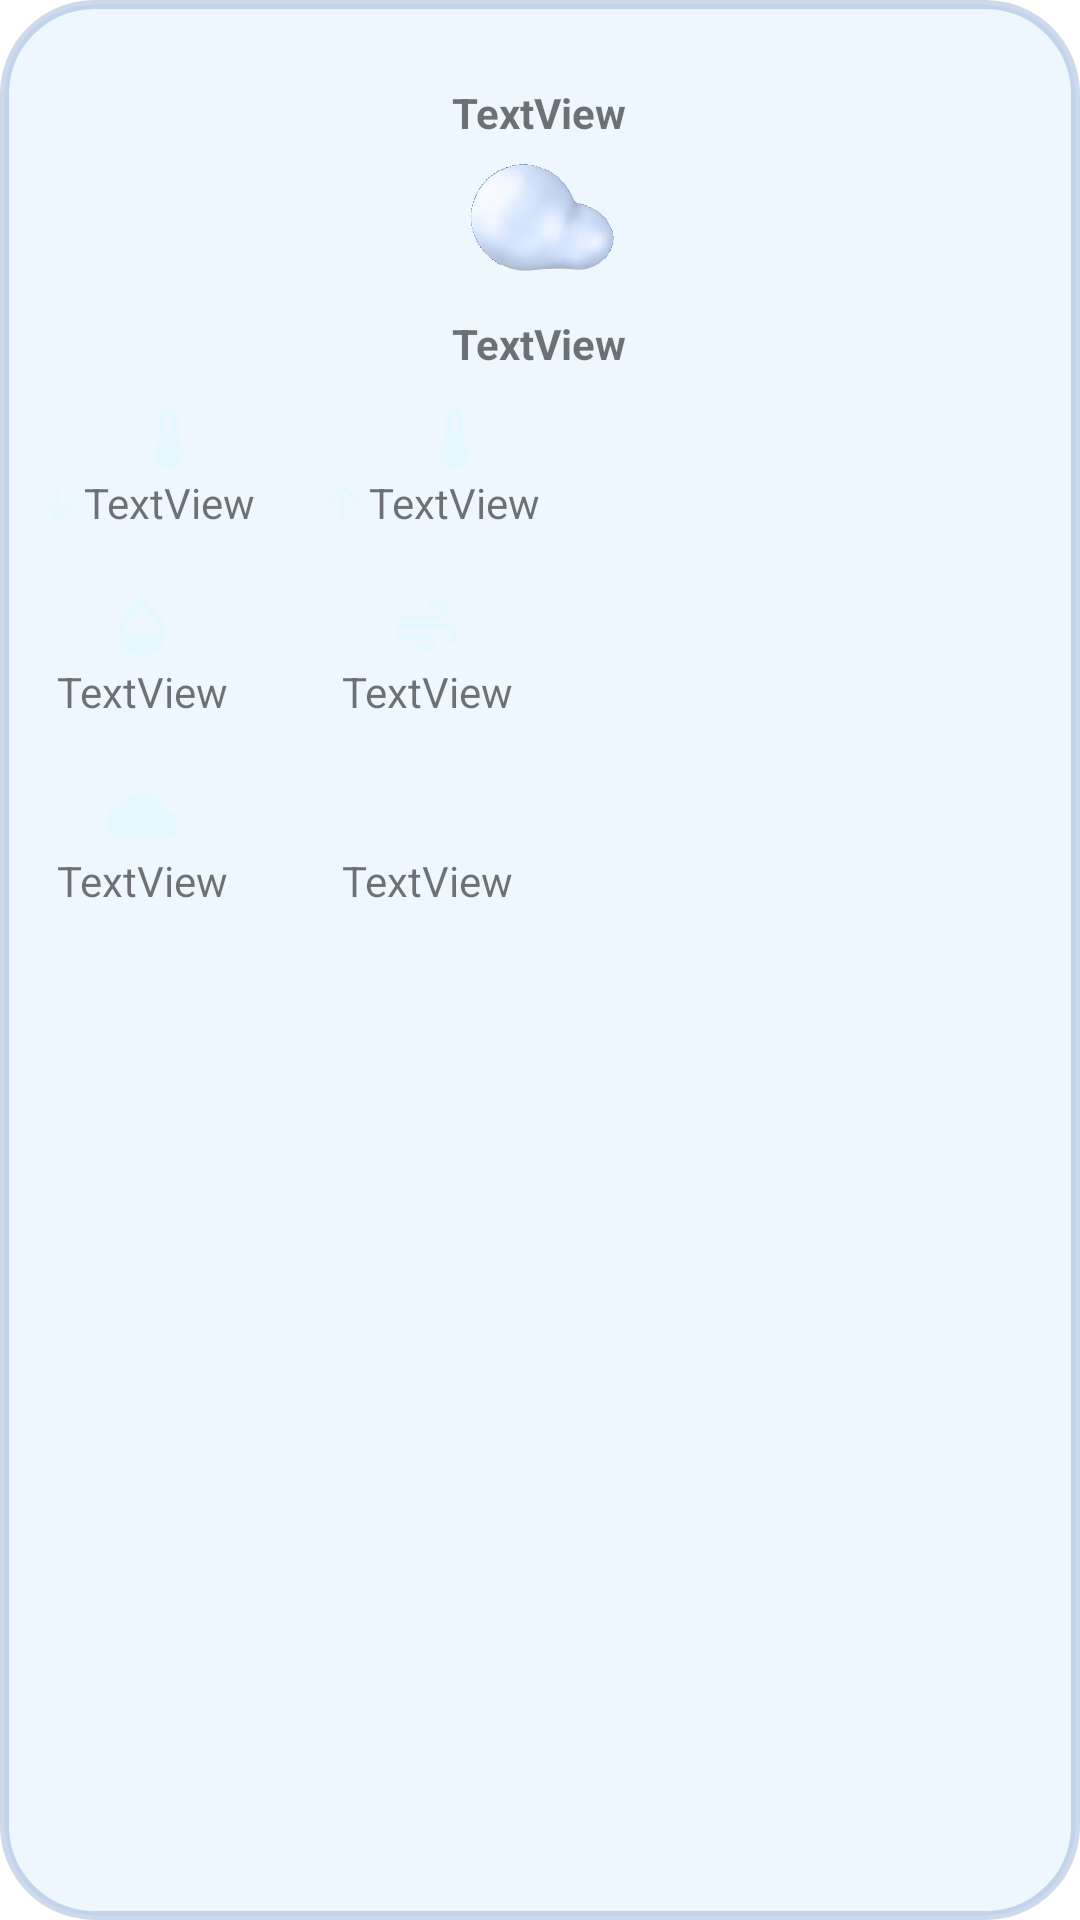

Point at icon controls on the screen. Image size 1080w x 1920h, points as (x=x, y=y).
weather State: (x=542, y=217)
